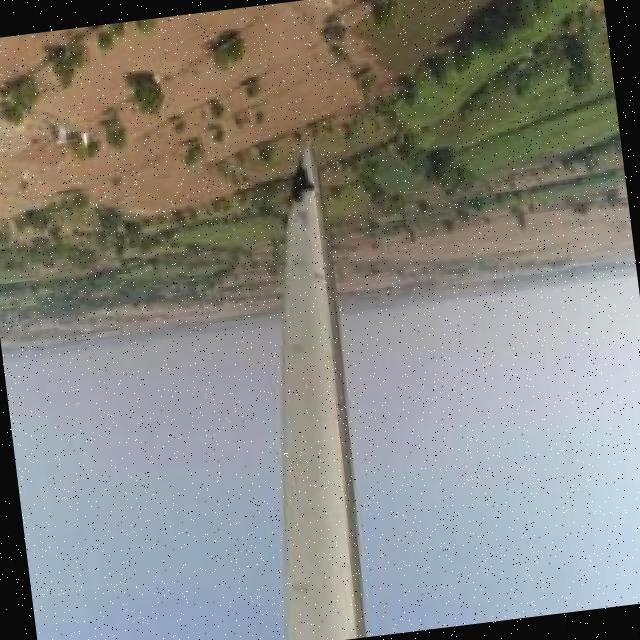Dirt: (282, 150, 370, 639)
Oil LEAKAGE: (287, 162, 315, 202)
